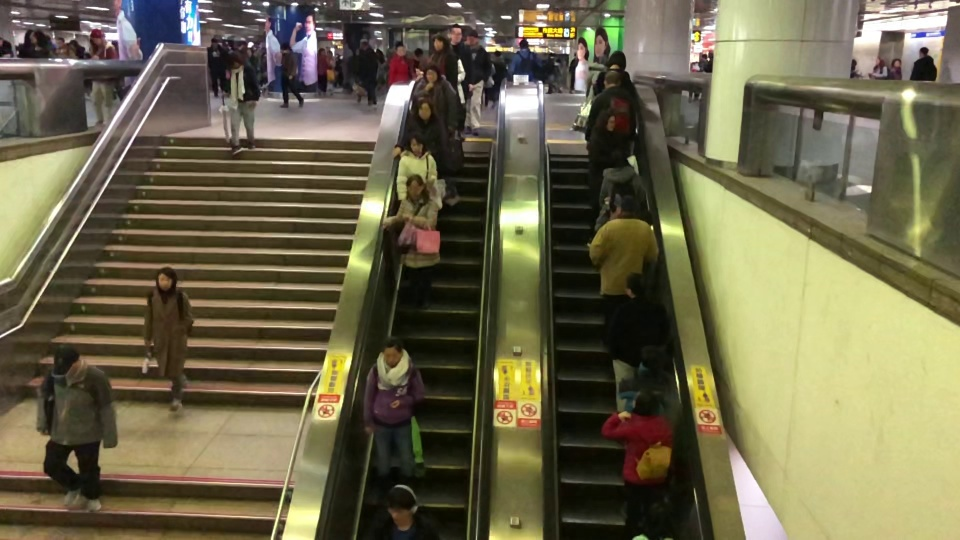person_head: (638, 500, 679, 538), (385, 484, 414, 525), (52, 344, 81, 380), (631, 388, 659, 414), (637, 346, 665, 370), (623, 271, 646, 297), (382, 335, 403, 363), (405, 173, 425, 200), (155, 266, 178, 289), (408, 131, 426, 156), (615, 195, 636, 216), (422, 61, 441, 83), (599, 108, 616, 131), (608, 50, 627, 70), (416, 98, 433, 119), (608, 151, 629, 168), (603, 70, 621, 88), (227, 49, 243, 67), (30, 30, 45, 47), (432, 33, 447, 50), (450, 23, 463, 42), (90, 28, 104, 45), (466, 30, 478, 45), (596, 52, 608, 64), (918, 45, 929, 58), (414, 47, 424, 60), (396, 42, 405, 56), (519, 38, 529, 50), (875, 55, 885, 67), (280, 43, 291, 53), (891, 58, 902, 66), (360, 39, 368, 49), (56, 38, 65, 46), (850, 58, 856, 70), (211, 37, 218, 46), (318, 47, 325, 54), (701, 52, 707, 59), (709, 51, 713, 59)
person_vbox: (35, 344, 120, 514), (588, 195, 658, 352), (362, 334, 425, 505), (600, 387, 674, 527), (603, 271, 665, 413), (381, 173, 443, 310), (141, 265, 194, 417), (412, 62, 462, 208), (584, 108, 629, 248), (591, 151, 647, 233), (618, 345, 678, 414), (584, 70, 637, 148), (226, 48, 261, 159), (369, 484, 438, 540), (391, 97, 447, 162), (395, 131, 438, 203), (86, 28, 117, 127), (465, 30, 491, 136), (420, 33, 459, 88), (449, 24, 473, 104), (279, 44, 305, 110), (594, 50, 633, 94), (508, 38, 542, 79), (359, 39, 378, 109), (206, 38, 227, 97), (583, 52, 609, 99), (387, 41, 413, 86), (909, 46, 937, 81), (868, 55, 892, 80), (317, 47, 329, 95), (29, 30, 47, 58), (51, 36, 70, 58), (849, 56, 862, 80), (890, 57, 903, 81), (697, 51, 708, 70), (706, 50, 713, 72)
